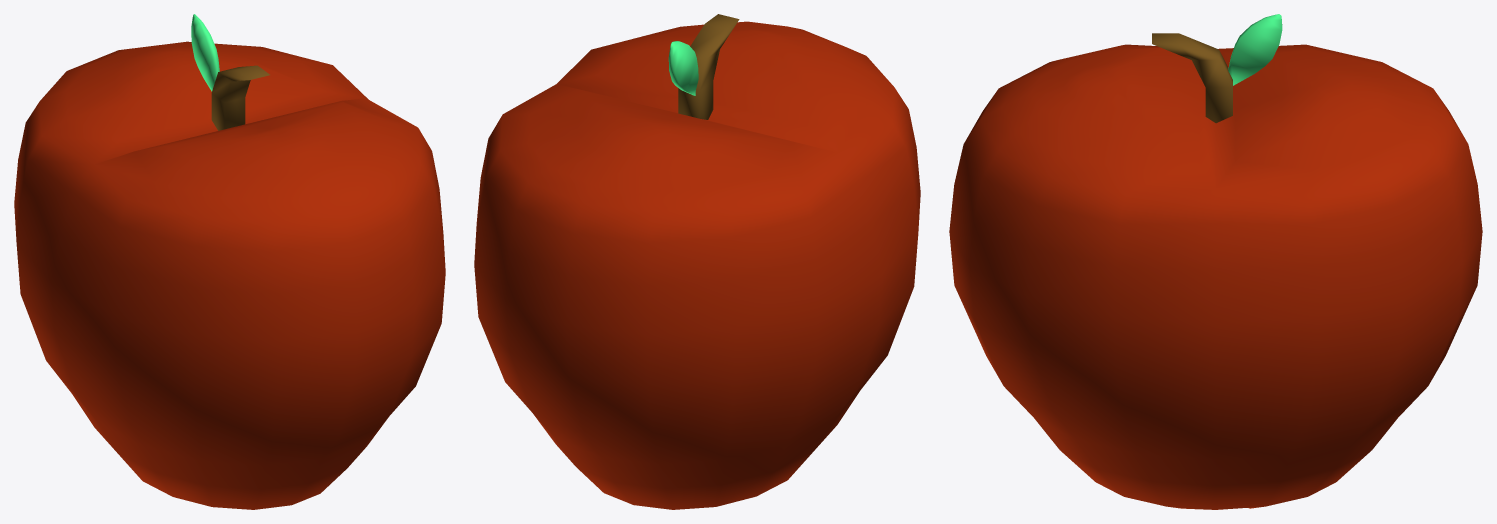
File: manzana 1.fbx
The picture shows the model from 3 angles, left to right: view 1: azimuth 30°, elevation 25°; view 2: azimuth 150°, elevation 25°; view 3: azimuth 270°, elevation 25°; orthographic projection. The views are drawn at different scales.
Visible parts, largest first — view 1: manzana; view 2: manzana; view 3: manzana.
Part boxes in pixels (x1=…): manzana: x1=14, y1=14, x2=445, y2=509; manzana: x1=474, y1=14, x2=920, y2=509; manzana: x1=949, y1=14, x2=1482, y2=509.
Size of the model in its own units: 194 by 229 by 238.
